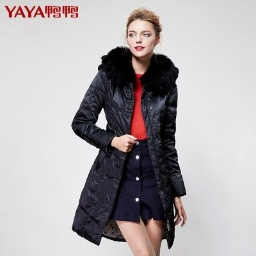face: (116, 5, 168, 72)
